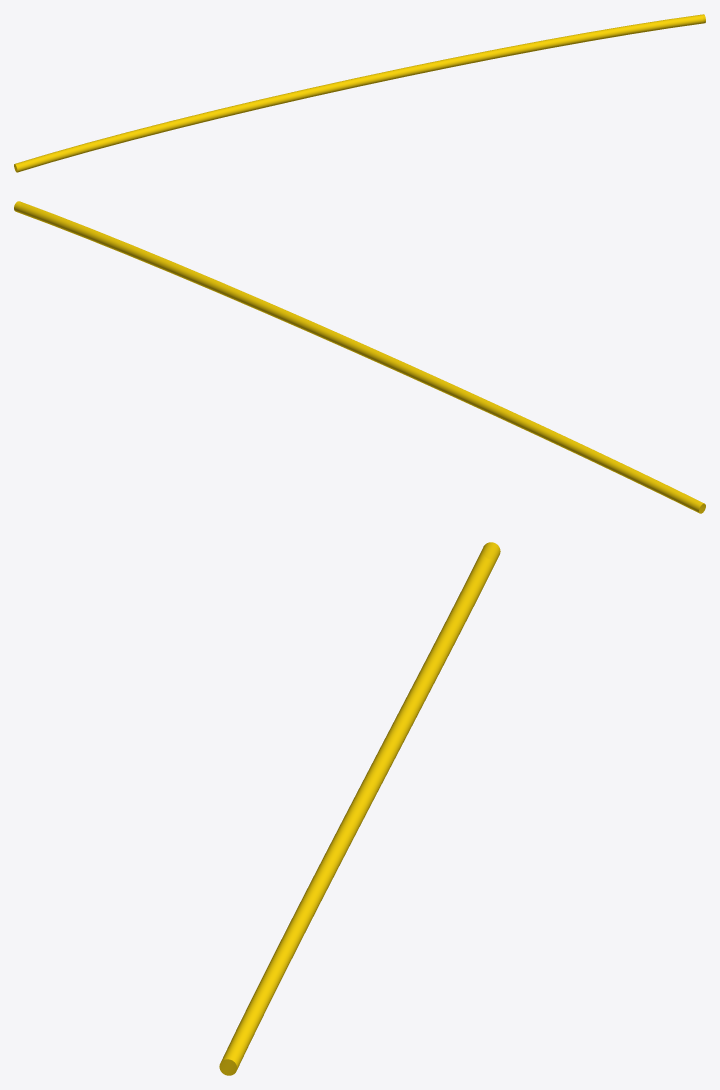
Rendered from Event_420094457_track_49.fbx.
The picture shows the model from 3 angles, top to bottom: view 1: azimuth 30°, elevation 25°; view 2: azimuth 150°, elevation 25°; view 3: azimuth 270°, elevation 25°; orthographic projection. The views are drawn at different scales.
Parts seen in each view (by area): view 1: Model; view 2: Model; view 3: Model.
Boxes of the visible parts, bbox=[...] form: Model: bbox=[14, 14, 705, 172]; Model: bbox=[14, 201, 705, 513]; Model: bbox=[219, 542, 500, 1075].
Size of the model in its own units: 3.17 by 0.2617 by 0.6183.
